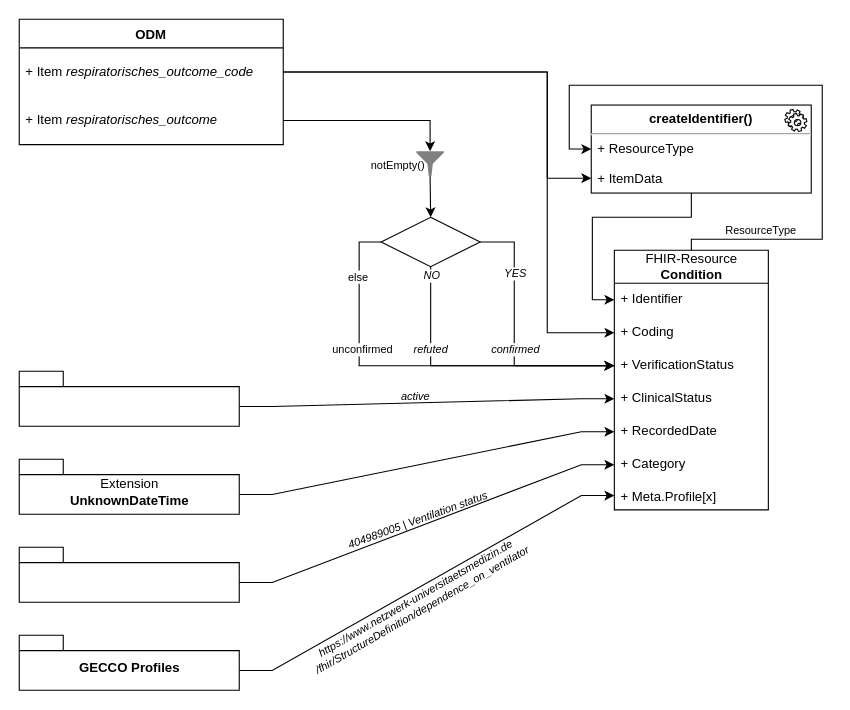
This 850x710 diagram has some shape labels left out. Here are the shapes that lost their labels. From the top down, the centre of each, then its label:
At point 430,241: "getCode()".
At point 128,398: "ValueSet ConditionClinical".
At point 128,574: "Codesystem SNOMED-CT".
